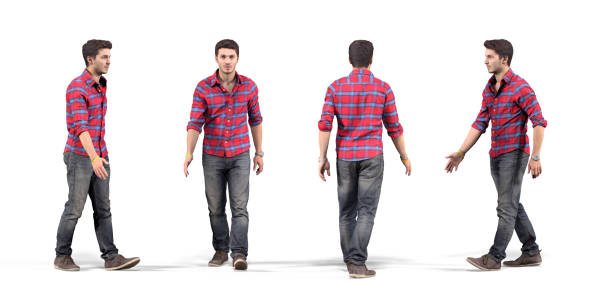Male: (438, 27, 578, 291), (304, 27, 421, 288), (177, 29, 281, 278), (53, 27, 145, 283)
